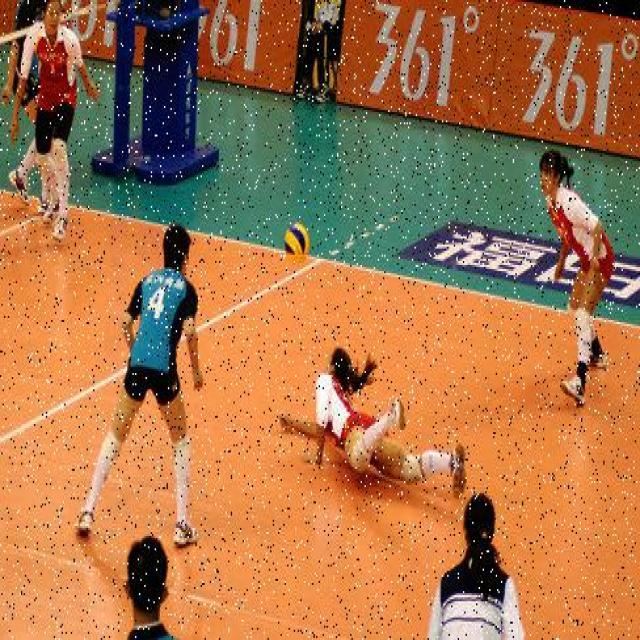fall: (280, 340, 466, 500)
